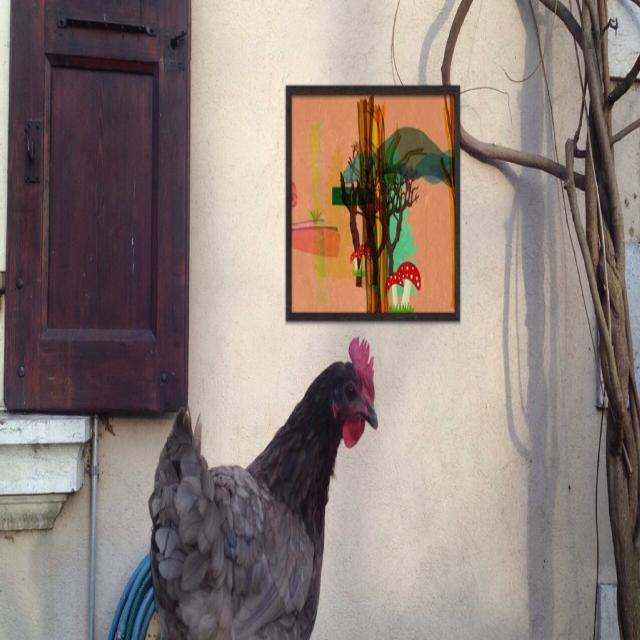Chicken: (139, 339, 373, 632)
